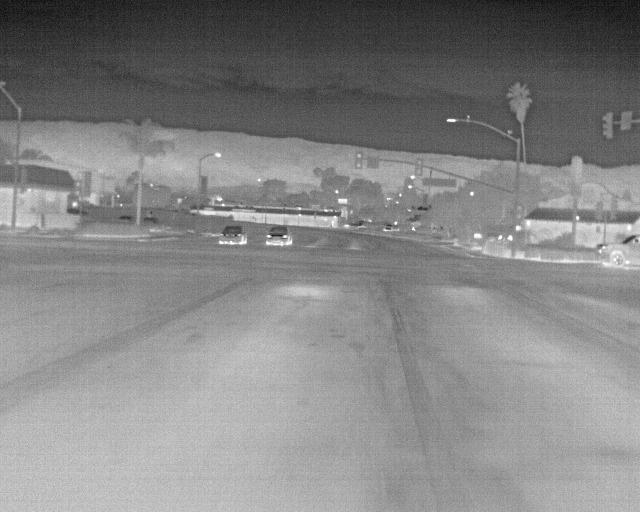car: (594, 234, 639, 266), (262, 225, 292, 247), (219, 222, 248, 244)
